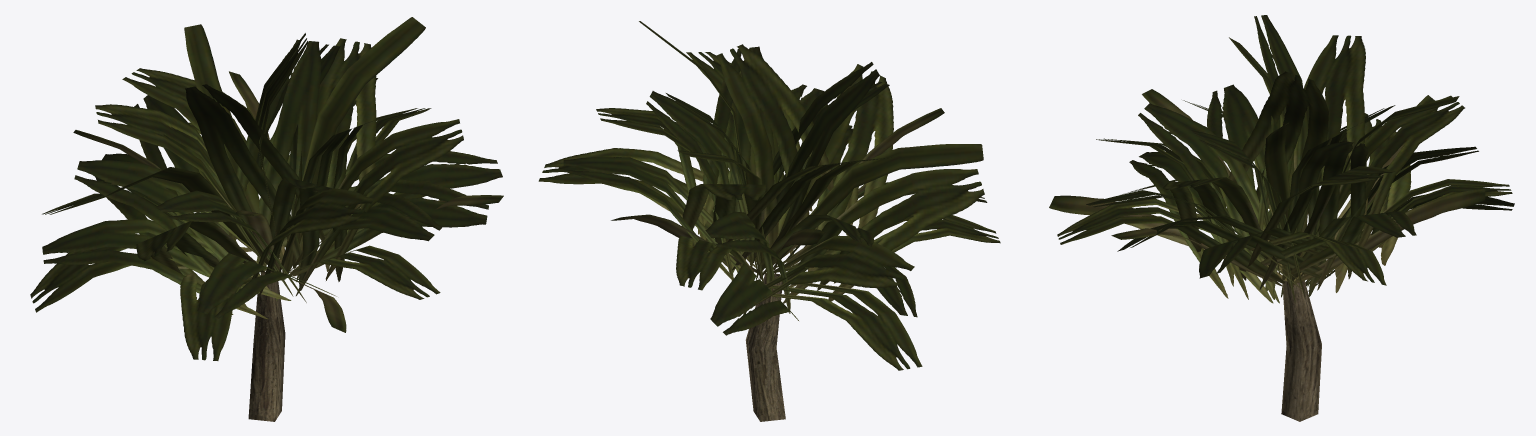
Rendered from palm3.glb.
3 renders of one model, left to right at view 1: azimuth 30°, elevation 25°; view 2: azimuth 150°, elevation 25°; view 3: azimuth 270°, elevation 25°, orthographic. The views are drawn at different scales.
Visible parts, largest first — view 1: Palm3; view 2: Palm3; view 3: Palm3.
Boxes of the visible parts, bbox=[...] form: Palm3: bbox=[30, 17, 503, 421]; Palm3: bbox=[538, 21, 1000, 421]; Palm3: bbox=[1049, 15, 1514, 421].
Bounding box in the file's own units: 6.09 × 5.2 × 5.99.
Materials: 2 (2 with a texture image).
